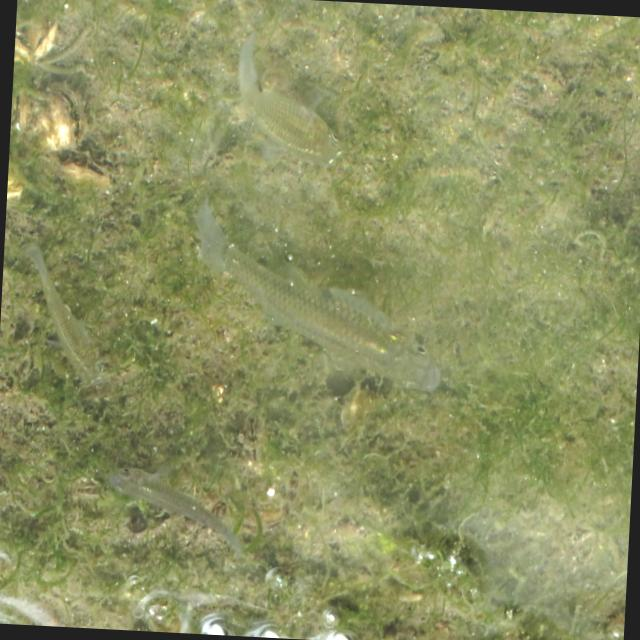Sivrisinek Baligi: (182, 209, 446, 395), (207, 35, 346, 173), (78, 458, 249, 560), (15, 235, 111, 395)
